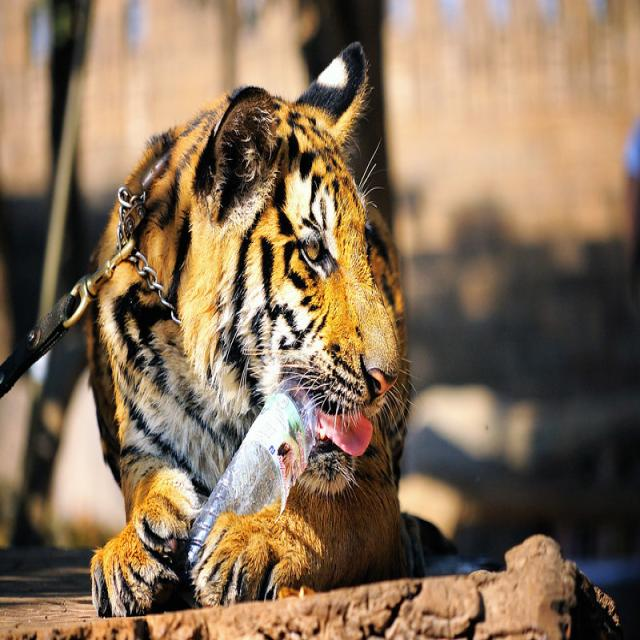Tiger: (89, 43, 411, 609)
